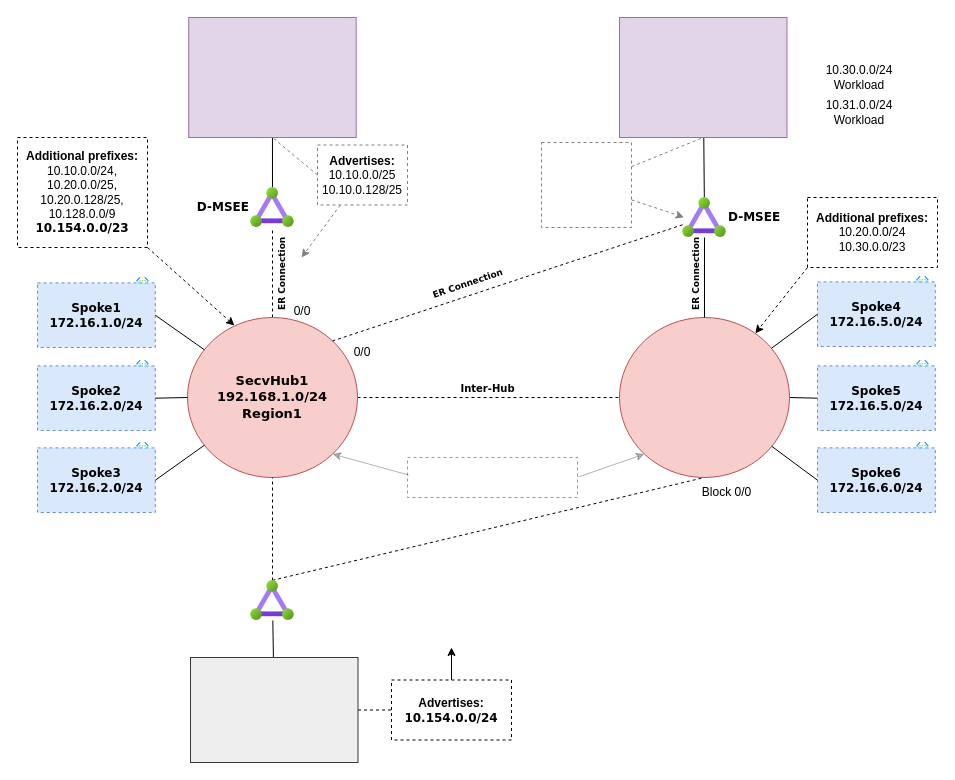
This 955x780 diagram has some shape labels left out. Each missing label, with the centre of its shape:
"Advertises: 10.20.0.0/26, 10.20.0.64/26, 10.20.0.128/26, 10.20.0.192/26" goes at [586,185].
"AVS DR 10.20.0.0/24 Region2" goes at [702,77].
"AVS Prod 10.10.0.0/24 Region1" goes at [272,77].
"On-premises 10.154.0.0/24 Brazil South" goes at [274,709].
"Routing Intent + ER Gateway RFC 1918 enabled" goes at [492,477].
"Sao Paulo MSEE" goes at [272,600].
"SecvHub2 192.168.2.0/24 Region2" goes at [704,397].
